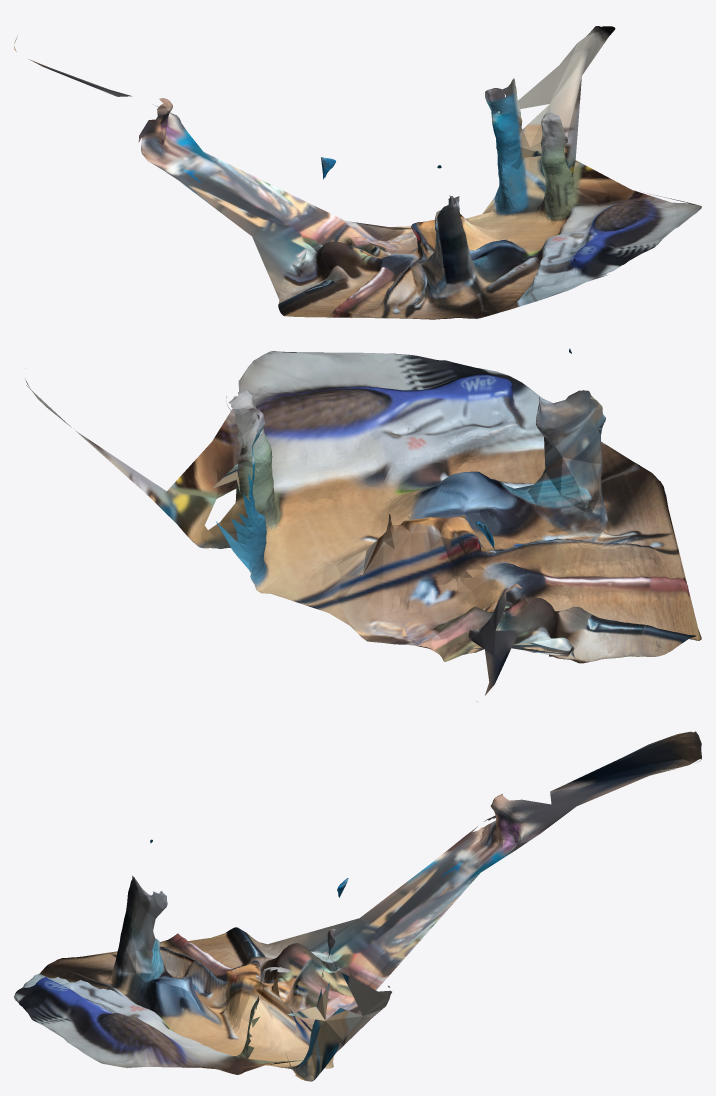
File: desk.gltf
3 renders of one model, top to bottom at view 1: azimuth 30°, elevation 25°; view 2: azimuth 150°, elevation 25°; view 3: azimuth 270°, elevation 25°, orthographic. The views are drawn at different scales.
Visible parts, largest first — view 1: mesh; view 2: mesh; view 3: mesh.
Part boxes in pixels (bbox=[...]): mesh: bbox=[14, 26, 701, 319]; mesh: bbox=[25, 348, 701, 702]; mesh: bbox=[14, 731, 701, 1081].
Bounding box in the file's own units: 1.14 × 0.3897 × 1.33.
Materials: 1 (1 with a texture image).
